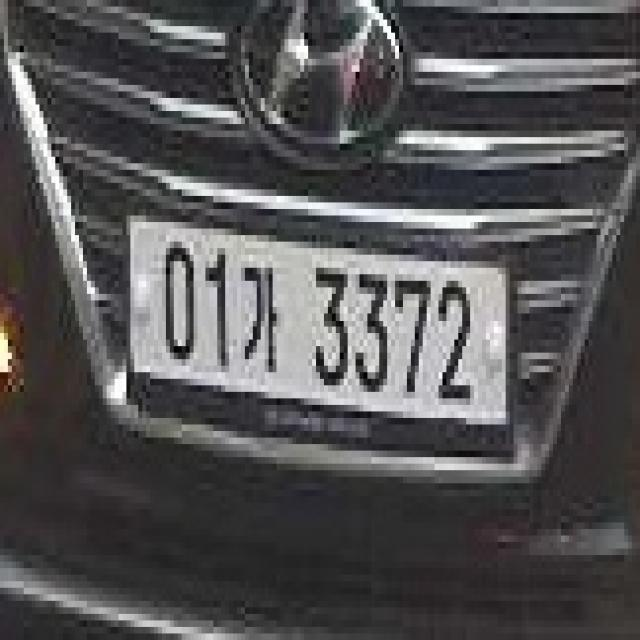0: (149, 232, 199, 372)
1: (204, 240, 233, 383)
2: (435, 268, 480, 412)
3: (352, 268, 392, 399), (312, 262, 349, 396)
7: (394, 270, 432, 403)
ga: (238, 254, 281, 383)
license_plate: (120, 204, 520, 466)
